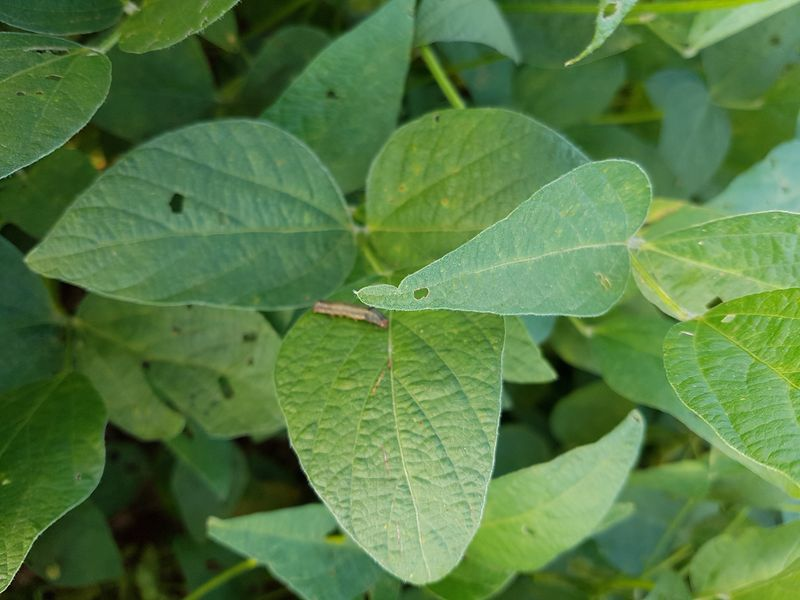Spodoptera_albula: (306, 287, 396, 346)
